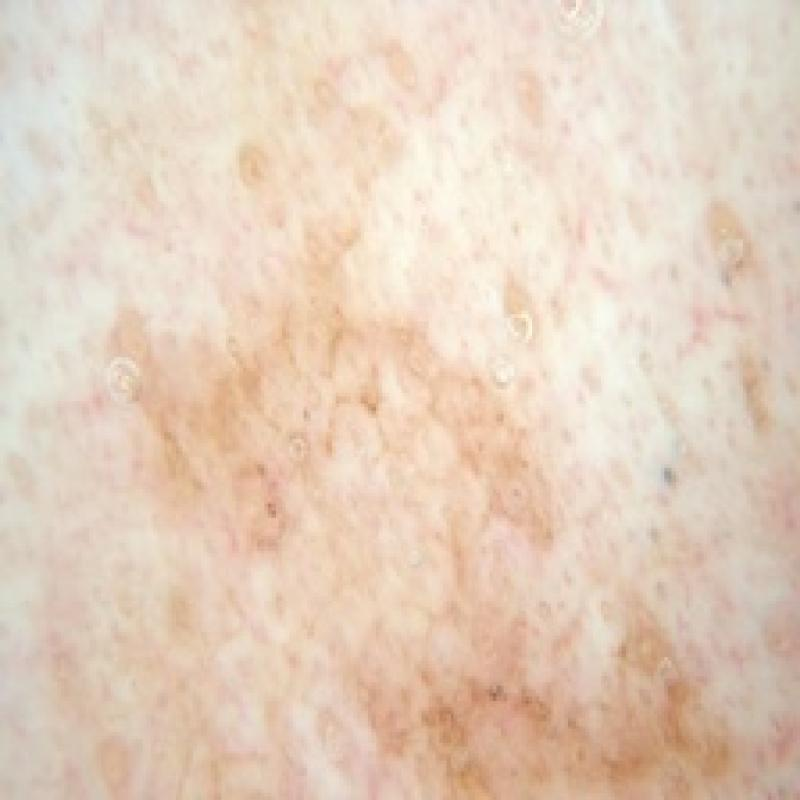malignant: (28, 29, 781, 780)
